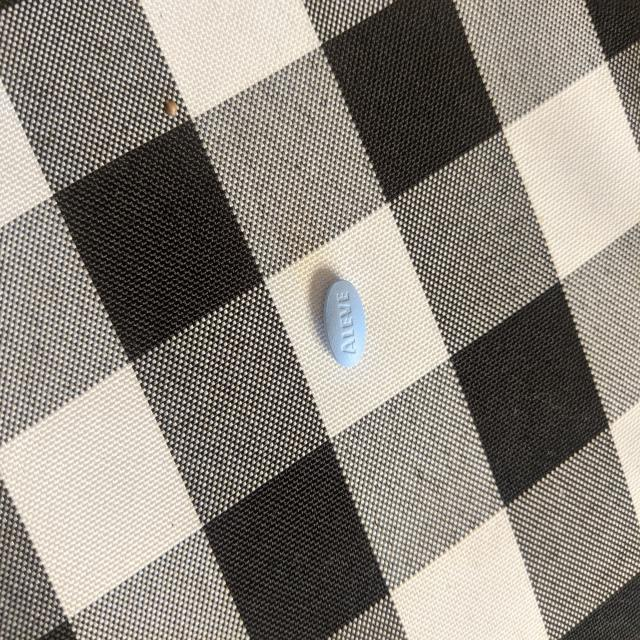non-organic waste: (323, 278, 367, 368)
